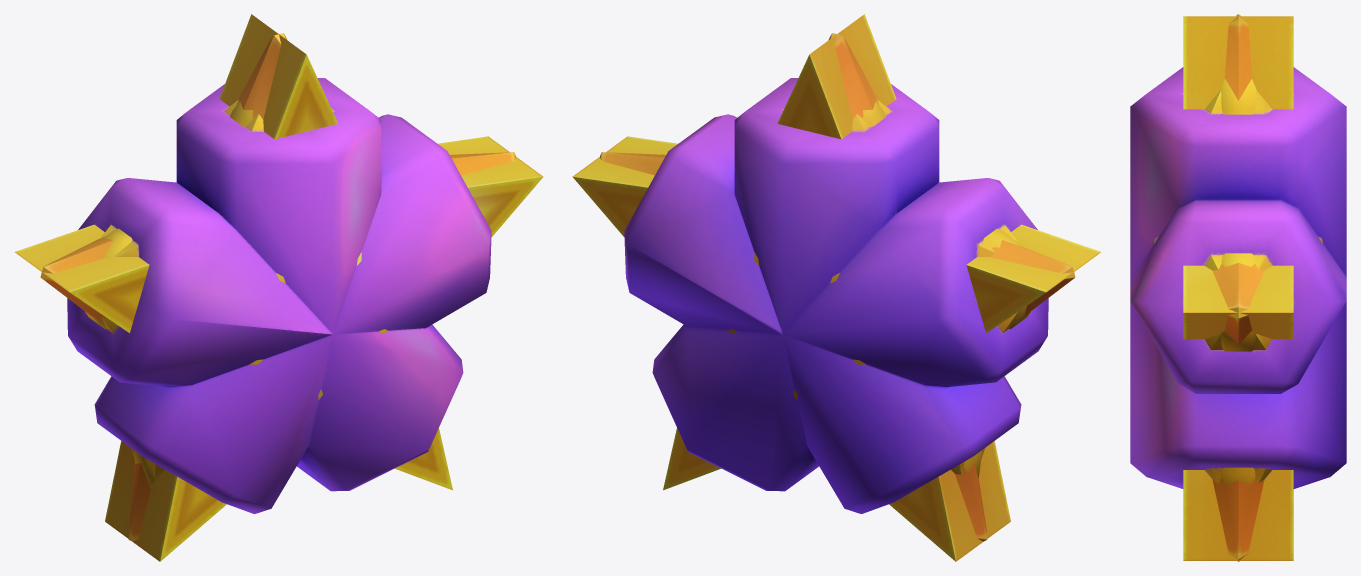
Rendered from Stars.fbx.
3 renders of one model, left to right at view 1: azimuth 30°, elevation 25°; view 2: azimuth 150°, elevation 25°; view 3: azimuth 270°, elevation 25°, orthographic.
Parts seen in each view (by area): view 1: Star-4, Star-1, Star-2, Star-3; view 2: Star-4, Star-1, Star-2, Star-3; view 3: Star-4, Star-1, Star-2, Star-3.
Part boxes in pixels (<box>): Star-4: <box>67,78,491,513</box>; Star-1: <box>14,14,543,561</box>; Star-2: <box>40,33,515,541</box>; Star-3: <box>85,101,387,488</box>; Star-4: <box>624,78,1048,513</box>; Star-1: <box>572,14,1101,561</box>; Star-2: <box>600,33,1075,541</box>; Star-3: <box>728,101,1030,477</box>; Star-4: <box>1130,67,1346,488</box>; Star-1: <box>1183,16,1293,560</box>; Star-2: <box>1212,14,1264,561</box>; Star-3: <box>1154,79,1322,484</box>.
Size of the model in its own units: 1.16 by 1.1 by 0.4531.
